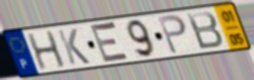9: (124, 17, 157, 59)
B: (184, 10, 225, 51)
E: (88, 20, 132, 65)
H: (26, 29, 69, 72)
K: (55, 27, 93, 66)
P: (156, 13, 189, 56)
